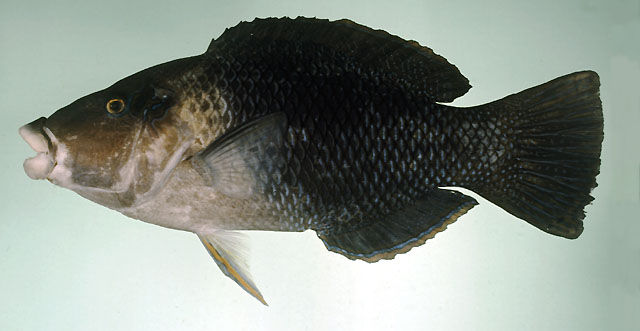fish: (18, 15, 604, 307)
